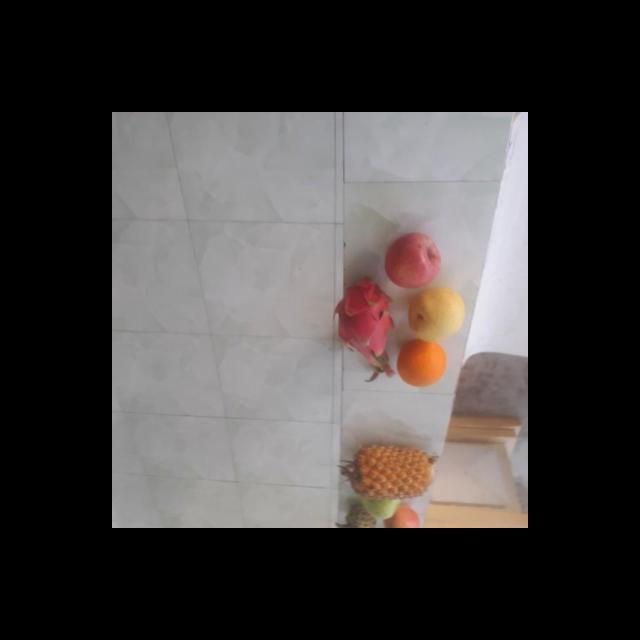apple: (384, 232, 444, 290)
orange: (397, 340, 448, 388)
pear: (405, 288, 466, 340)
pineapple: (351, 442, 437, 498)
pitaya: (333, 278, 405, 364)
